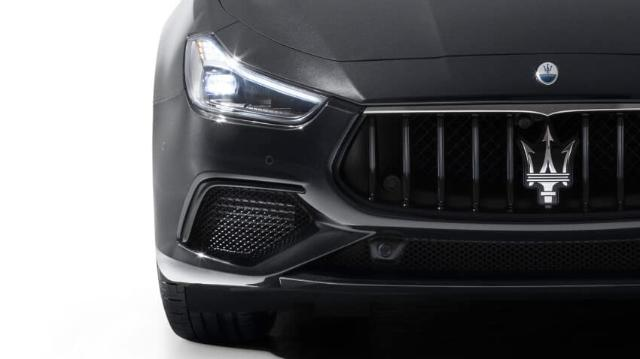maserati: (154, 0, 640, 356)
